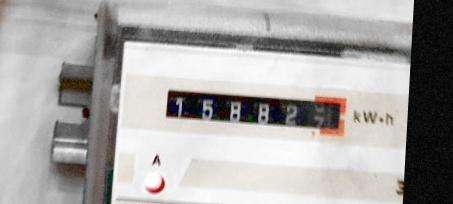1: (172, 94, 187, 117)
2: (282, 102, 299, 127)
5: (199, 95, 215, 121)
7: (312, 111, 325, 128)
8: (255, 100, 271, 125), (227, 99, 242, 123)
screen: (156, 79, 355, 145)
